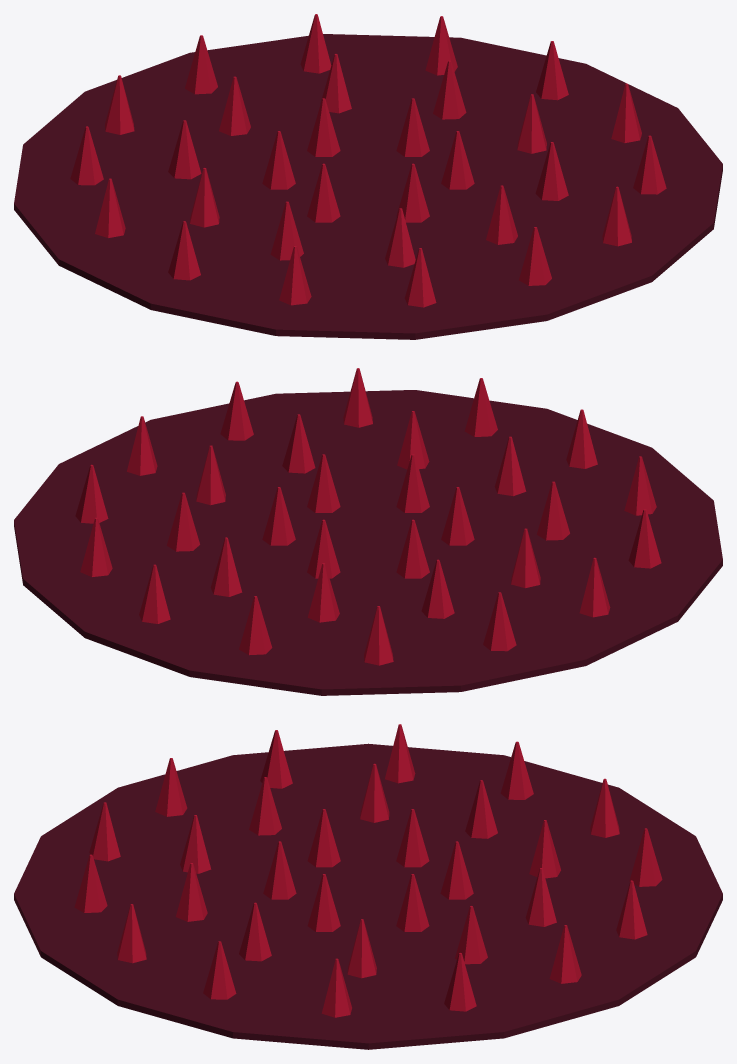
File: spike_trap.obj
3 views of the same model, one above another, from view 1: azimuth 30°, elevation 25°; view 2: azimuth 150°, elevation 25°; view 3: azimuth 270°, elevation 25° (orthographic).
Parts seen in each view (by area): view 1: spike_trap; view 2: spike_trap; view 3: spike_trap.
Part boxes in pixels (x1,y1,x2,y2): spike_trap: [14, 14, 722, 339]; spike_trap: [14, 368, 722, 695]; spike_trap: [14, 724, 722, 1049].
Size of the model in its own units: 16 by 1.45 by 16.
